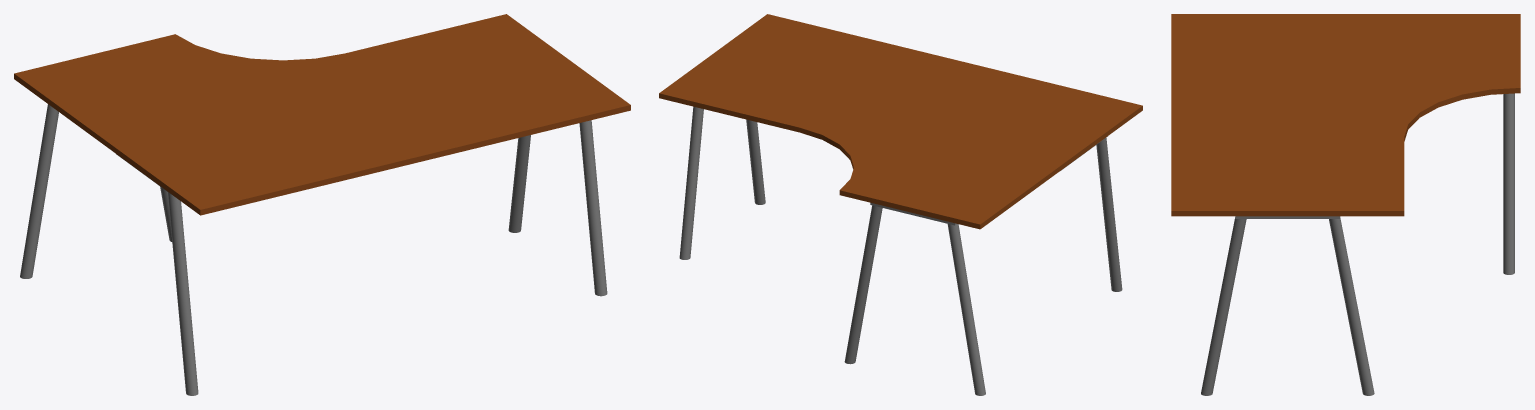
Rendered from galant_desk_6_obj0_object.obj.
3 views of the same model, side by side, from view 1: azimuth 30°, elevation 25°; view 2: azimuth 150°, elevation 25°; view 3: azimuth 270°, elevation 25° (orthographic). The views are drawn at different scales.
Parts seen in each view (by area): view 1: Mesh1 Galant_160_x_120_R1 Model; view 2: Mesh1 Galant_160_x_120_R1 Model; view 3: Mesh1 Galant_160_x_120_R1 Model.
Boxes of the visible parts, x1,y1,x2,y2 form: Mesh1 Galant_160_x_120_R1 Model: (14,14,630,395); Mesh1 Galant_160_x_120_R1 Model: (659,14,1142,395); Mesh1 Galant_160_x_120_R1 Model: (1171,14,1520,395).
Size of the model in its own units: 62.99 by 27.95 by 47.24.
